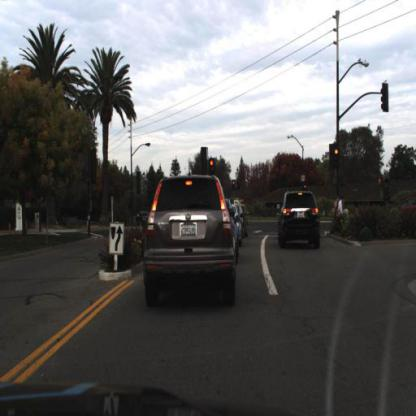car: (143, 174, 239, 309), (276, 188, 322, 248), (389, 195, 416, 226)
pedestrian: (336, 196, 346, 233), (333, 195, 341, 222)
trafficLight-Red: (209, 160, 216, 183), (210, 158, 218, 174), (334, 148, 339, 168), (379, 176, 384, 194)
